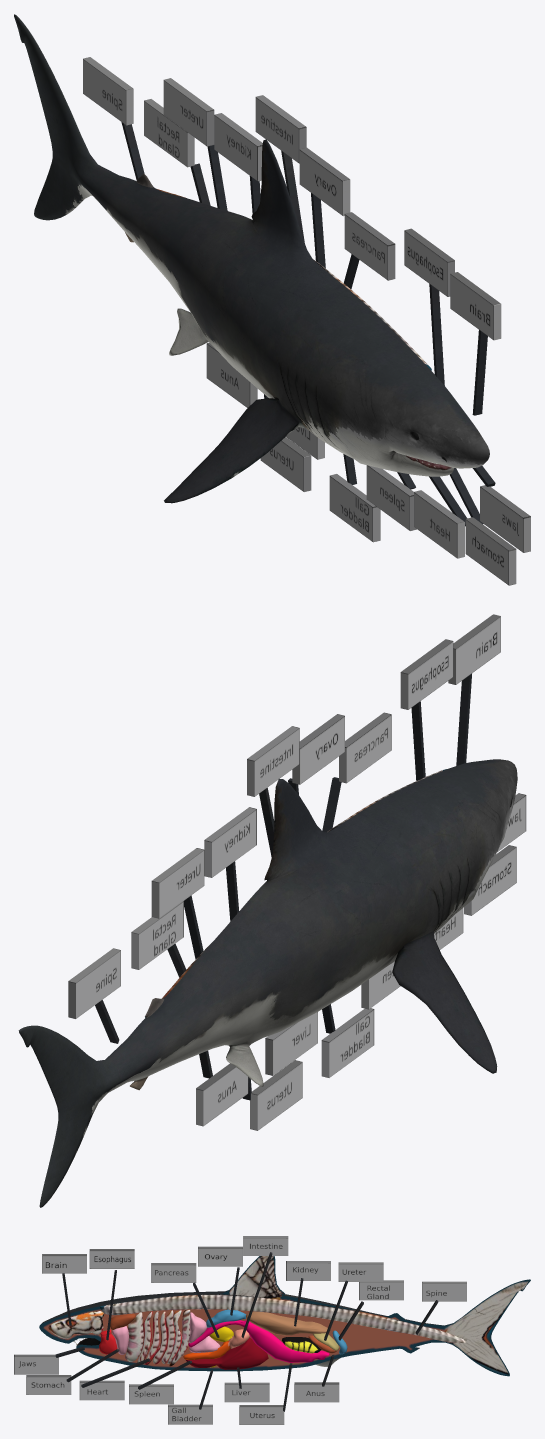
The model's file is Shark Anatomy.fbx.
The picture shows the model from 3 angles, top to bottom: view 1: azimuth 30°, elevation 25°; view 2: azimuth 150°, elevation 25°; view 3: azimuth 270°, elevation 25°; orthographic projection. The views are drawn at different scales.
Parts seen in each view (by area): view 1: Object_10.002, Object_10.008, Object_10.009; view 2: Object_10.002, Object_10.008, Object_10.009; view 3: Object_10.008, Object_10.003, Object_10.006, Object_10.009, Object_10.013, Object_10.020, Object_10.002, Object_10.015, Object_10.033, Object_10.005, Object_10.021, Object_10.016 (+13 smaller).
Boxes of the visible parts, left/top/right/bottom form: Object_10.002: left=14, top=14, right=489, bottom=503; Object_10.008: left=83, top=57, right=530, bottom=585; Object_10.009: left=121, top=122, right=495, bottom=526; Object_10.002: left=18, top=759, right=517, bottom=1207; Object_10.008: left=68, top=614, right=526, bottom=1130; Object_10.009: left=95, top=673, right=471, bottom=1100; Object_10.008: left=14, top=1236, right=466, bottom=1424; Object_10.003: left=39, top=1256, right=530, bottom=1376; Object_10.006: left=100, top=1294, right=465, bottom=1343; Object_10.009: left=55, top=1252, right=438, bottom=1411; Object_10.013: left=188, top=1320, right=329, bottom=1362; Object_10.020: left=185, top=1337, right=268, bottom=1369; Object_10.002: left=41, top=1279, right=529, bottom=1366; Object_10.015: left=246, top=1311, right=330, bottom=1335; Object_10.033: left=48, top=1311, right=104, bottom=1338; Object_10.005: left=125, top=1312, right=143, bottom=1361; Object_10.021: left=183, top=1329, right=249, bottom=1359; Object_10.016: left=282, top=1337, right=321, bottom=1353.
Size of the model in its own units: 54.78 by 105 by 263.
Materials: 2 (2 with a texture image).
